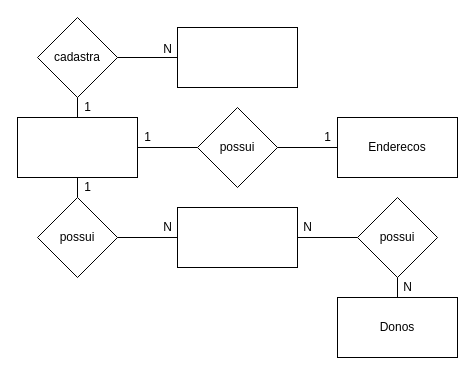
Some shapes in this 475 by 375 pixel diagram are drawn without their labels. Here are the shapes that lost their labels. From the top down, the box of each, then its label:
(176, 26, 298, 88): Veterinarios
(16, 116, 138, 178): Clinicas
(176, 206, 298, 268): Pets
